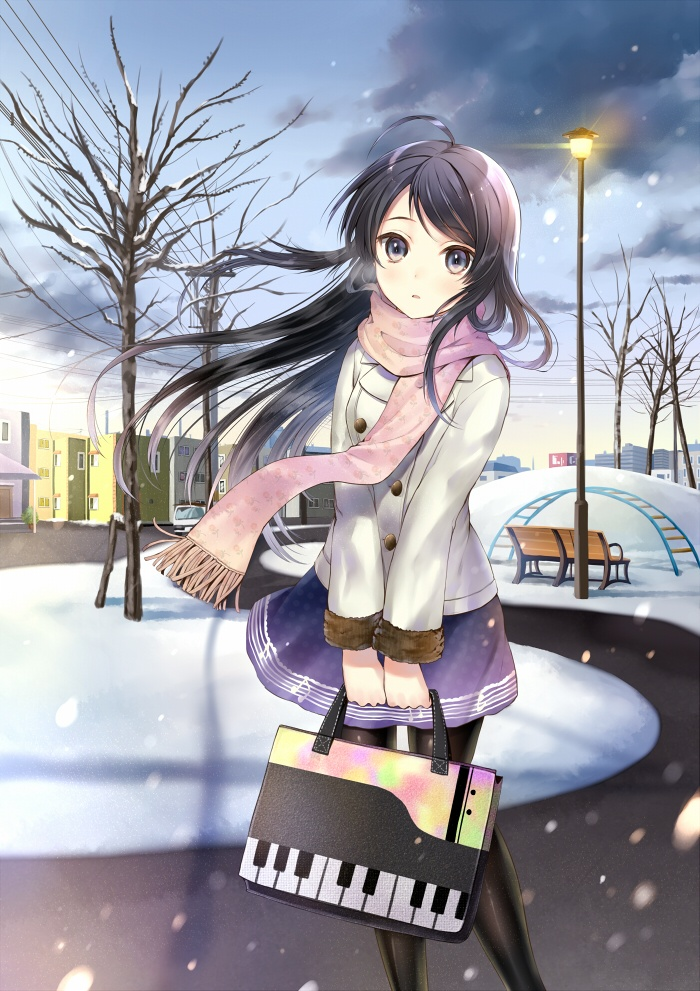纸片人正脸: (322, 119, 524, 329)
